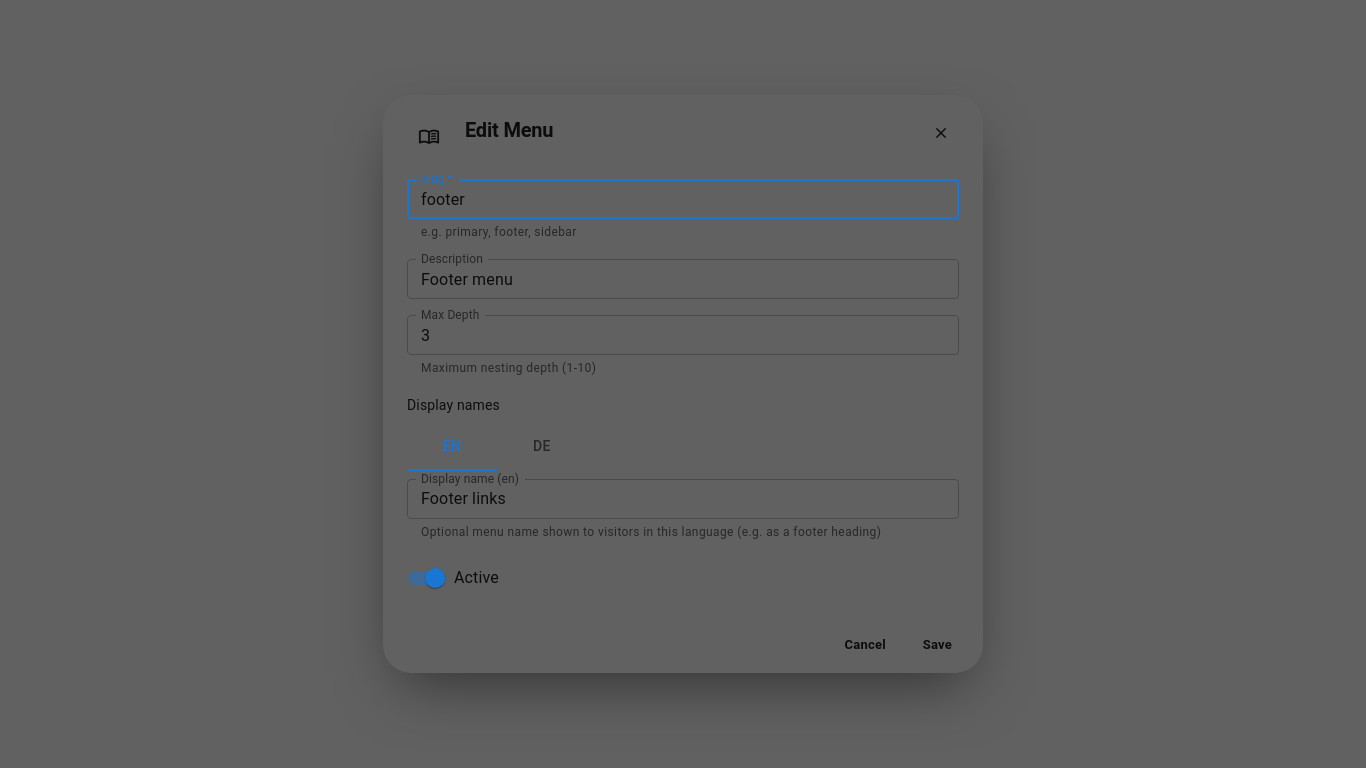
MenuFormDialog › prefills display names from the menu localizations when editing
This screenshot has width=1366, height=768.
Check: the field with test id "menu-form.input.display-name" holds "Footer links", box [407,479,959,519]
Click the tab "DE" at (542, 447), box [497,423,587,471]
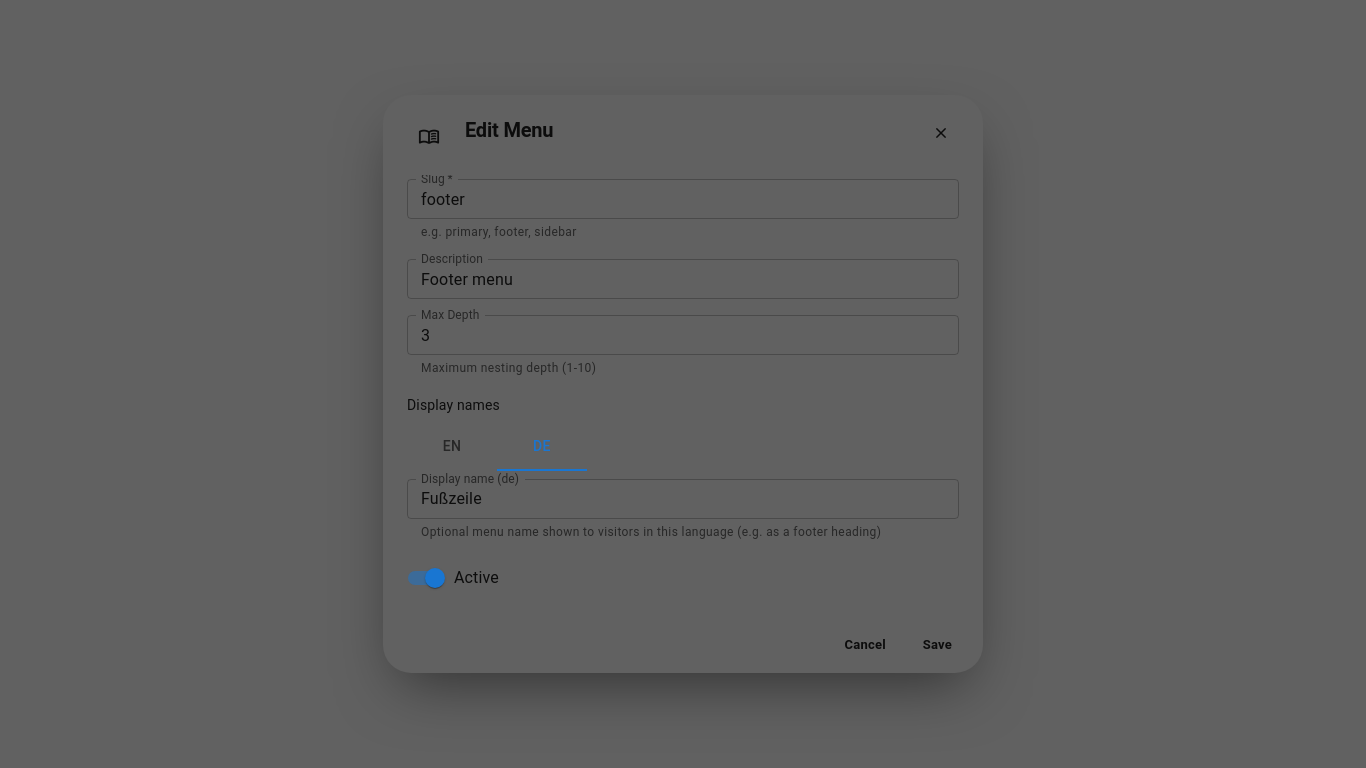
Check: the field with test id "menu-form.input.display-name" holds "Fußzeile", box [407,479,959,519]
